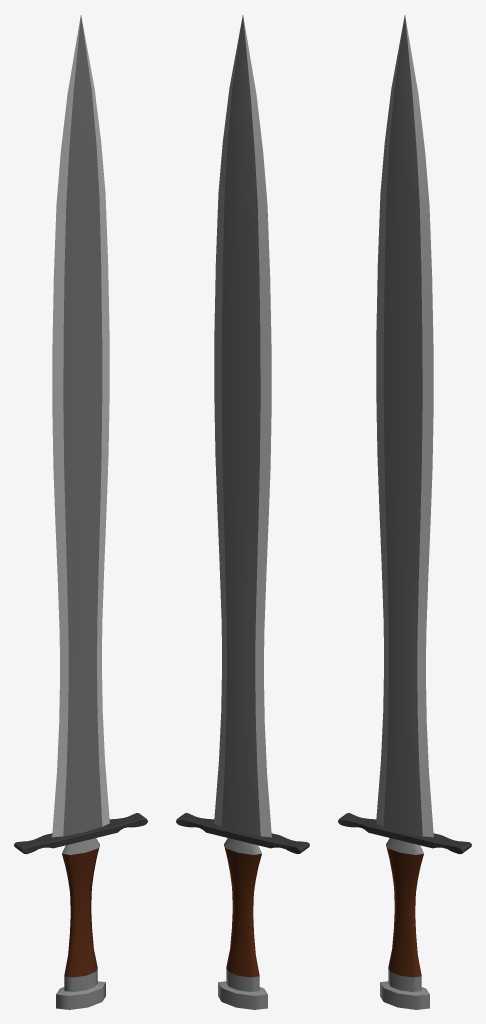
Rendered from SinwoosLongSword (1).fbx.
The picture shows the model from 3 angles, left to right: view 1: azimuth 30°, elevation 25°; view 2: azimuth 150°, elevation 25°; view 3: azimuth 330°, elevation 25°; orthographic projection.
Parts seen in each view (by area): view 1: Blade, Handle; view 2: Blade, Handle; view 3: Blade, Handle.
Boxes of the visible parts, left/top/right/bottom form: Blade: left=52, top=15, right=109, bottom=837; Handle: left=14, top=813, right=147, bottom=1009; Blade: left=214, top=15, right=271, bottom=837; Handle: left=176, top=813, right=309, bottom=1009; Blade: left=376, top=15, right=433, bottom=837; Handle: left=338, top=813, right=471, bottom=1009.
Bounding box in the file's own units: 160 × 1203 × 31.29.
